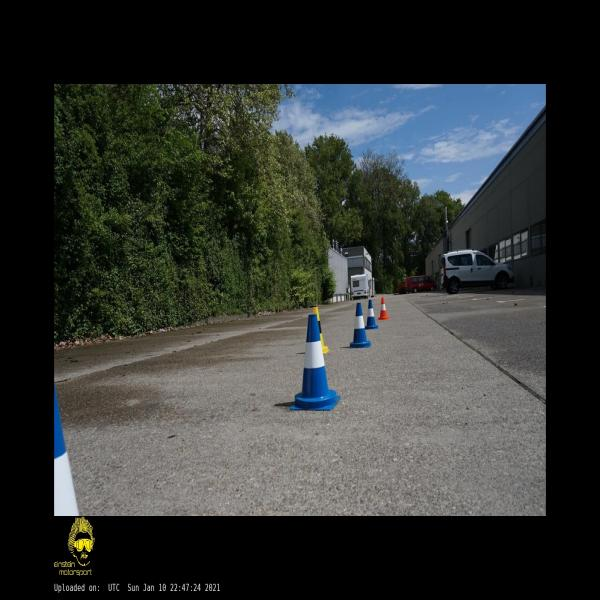blue_cone: (289, 314, 341, 410), (350, 303, 371, 348), (365, 300, 378, 329)
orange_cone: (378, 298, 389, 320)
yellow_cone: (313, 308, 329, 353)
